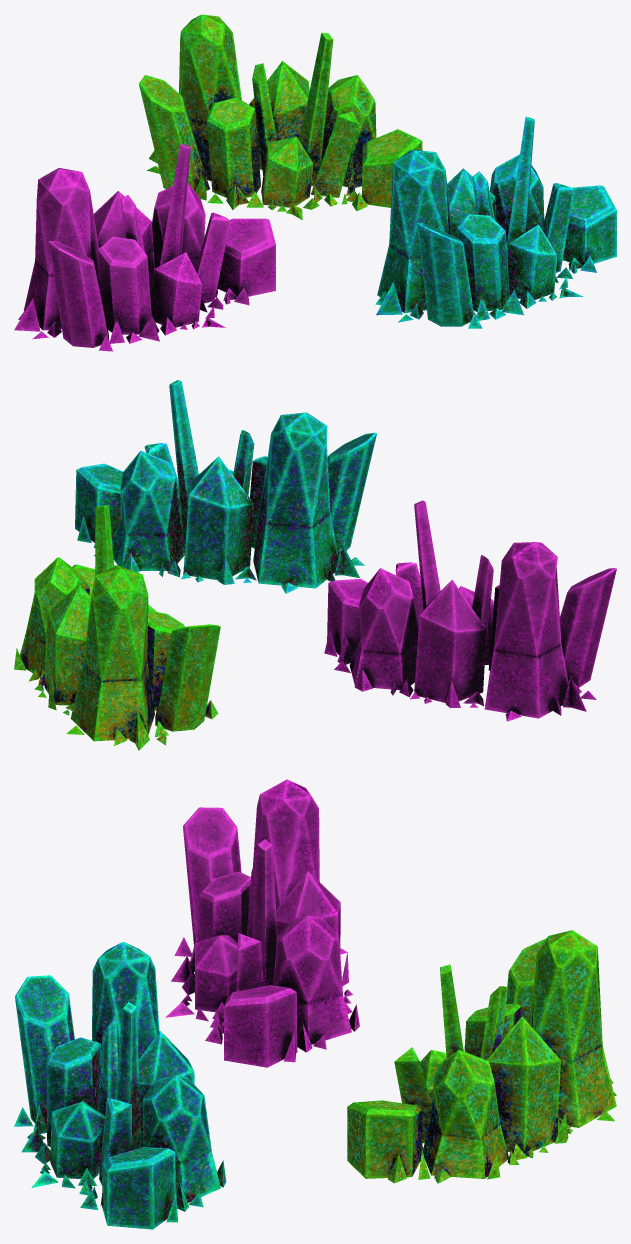
The model's file is Alien Ore.FBX.
3 views of the same model, one above another, from view 1: azimuth 30°, elevation 25°; view 2: azimuth 150°, elevation 25°; view 3: azimuth 270°, elevation 25° (orthographic). The views are drawn at different scales.
Visible parts, largest first — view 1: Alien Ore 003, Alien Ore 002, Alien Ore 001; view 2: Alien Ore 001, Alien Ore 002, Alien Ore 003; view 3: Alien Ore 003, Alien Ore 001, Alien Ore 002.
Part boxes in pixels (bbox=[...]): Alien Ore 003: bbox=[139, 14, 422, 220]; Alien Ore 002: bbox=[14, 144, 275, 351]; Alien Ore 001: bbox=[375, 116, 616, 328]; Alien Ore 001: bbox=[75, 380, 376, 593]; Alien Ore 002: bbox=[324, 500, 616, 721]; Alien Ore 003: bbox=[14, 505, 220, 750]; Alien Ore 003: bbox=[347, 930, 616, 1183]; Alien Ore 001: bbox=[14, 941, 226, 1229]; Alien Ore 002: bbox=[165, 779, 359, 1067].
Size of the model in its own units: 18.09 by 4.93 by 15.18.
Materials: 3 (3 with a texture image).
